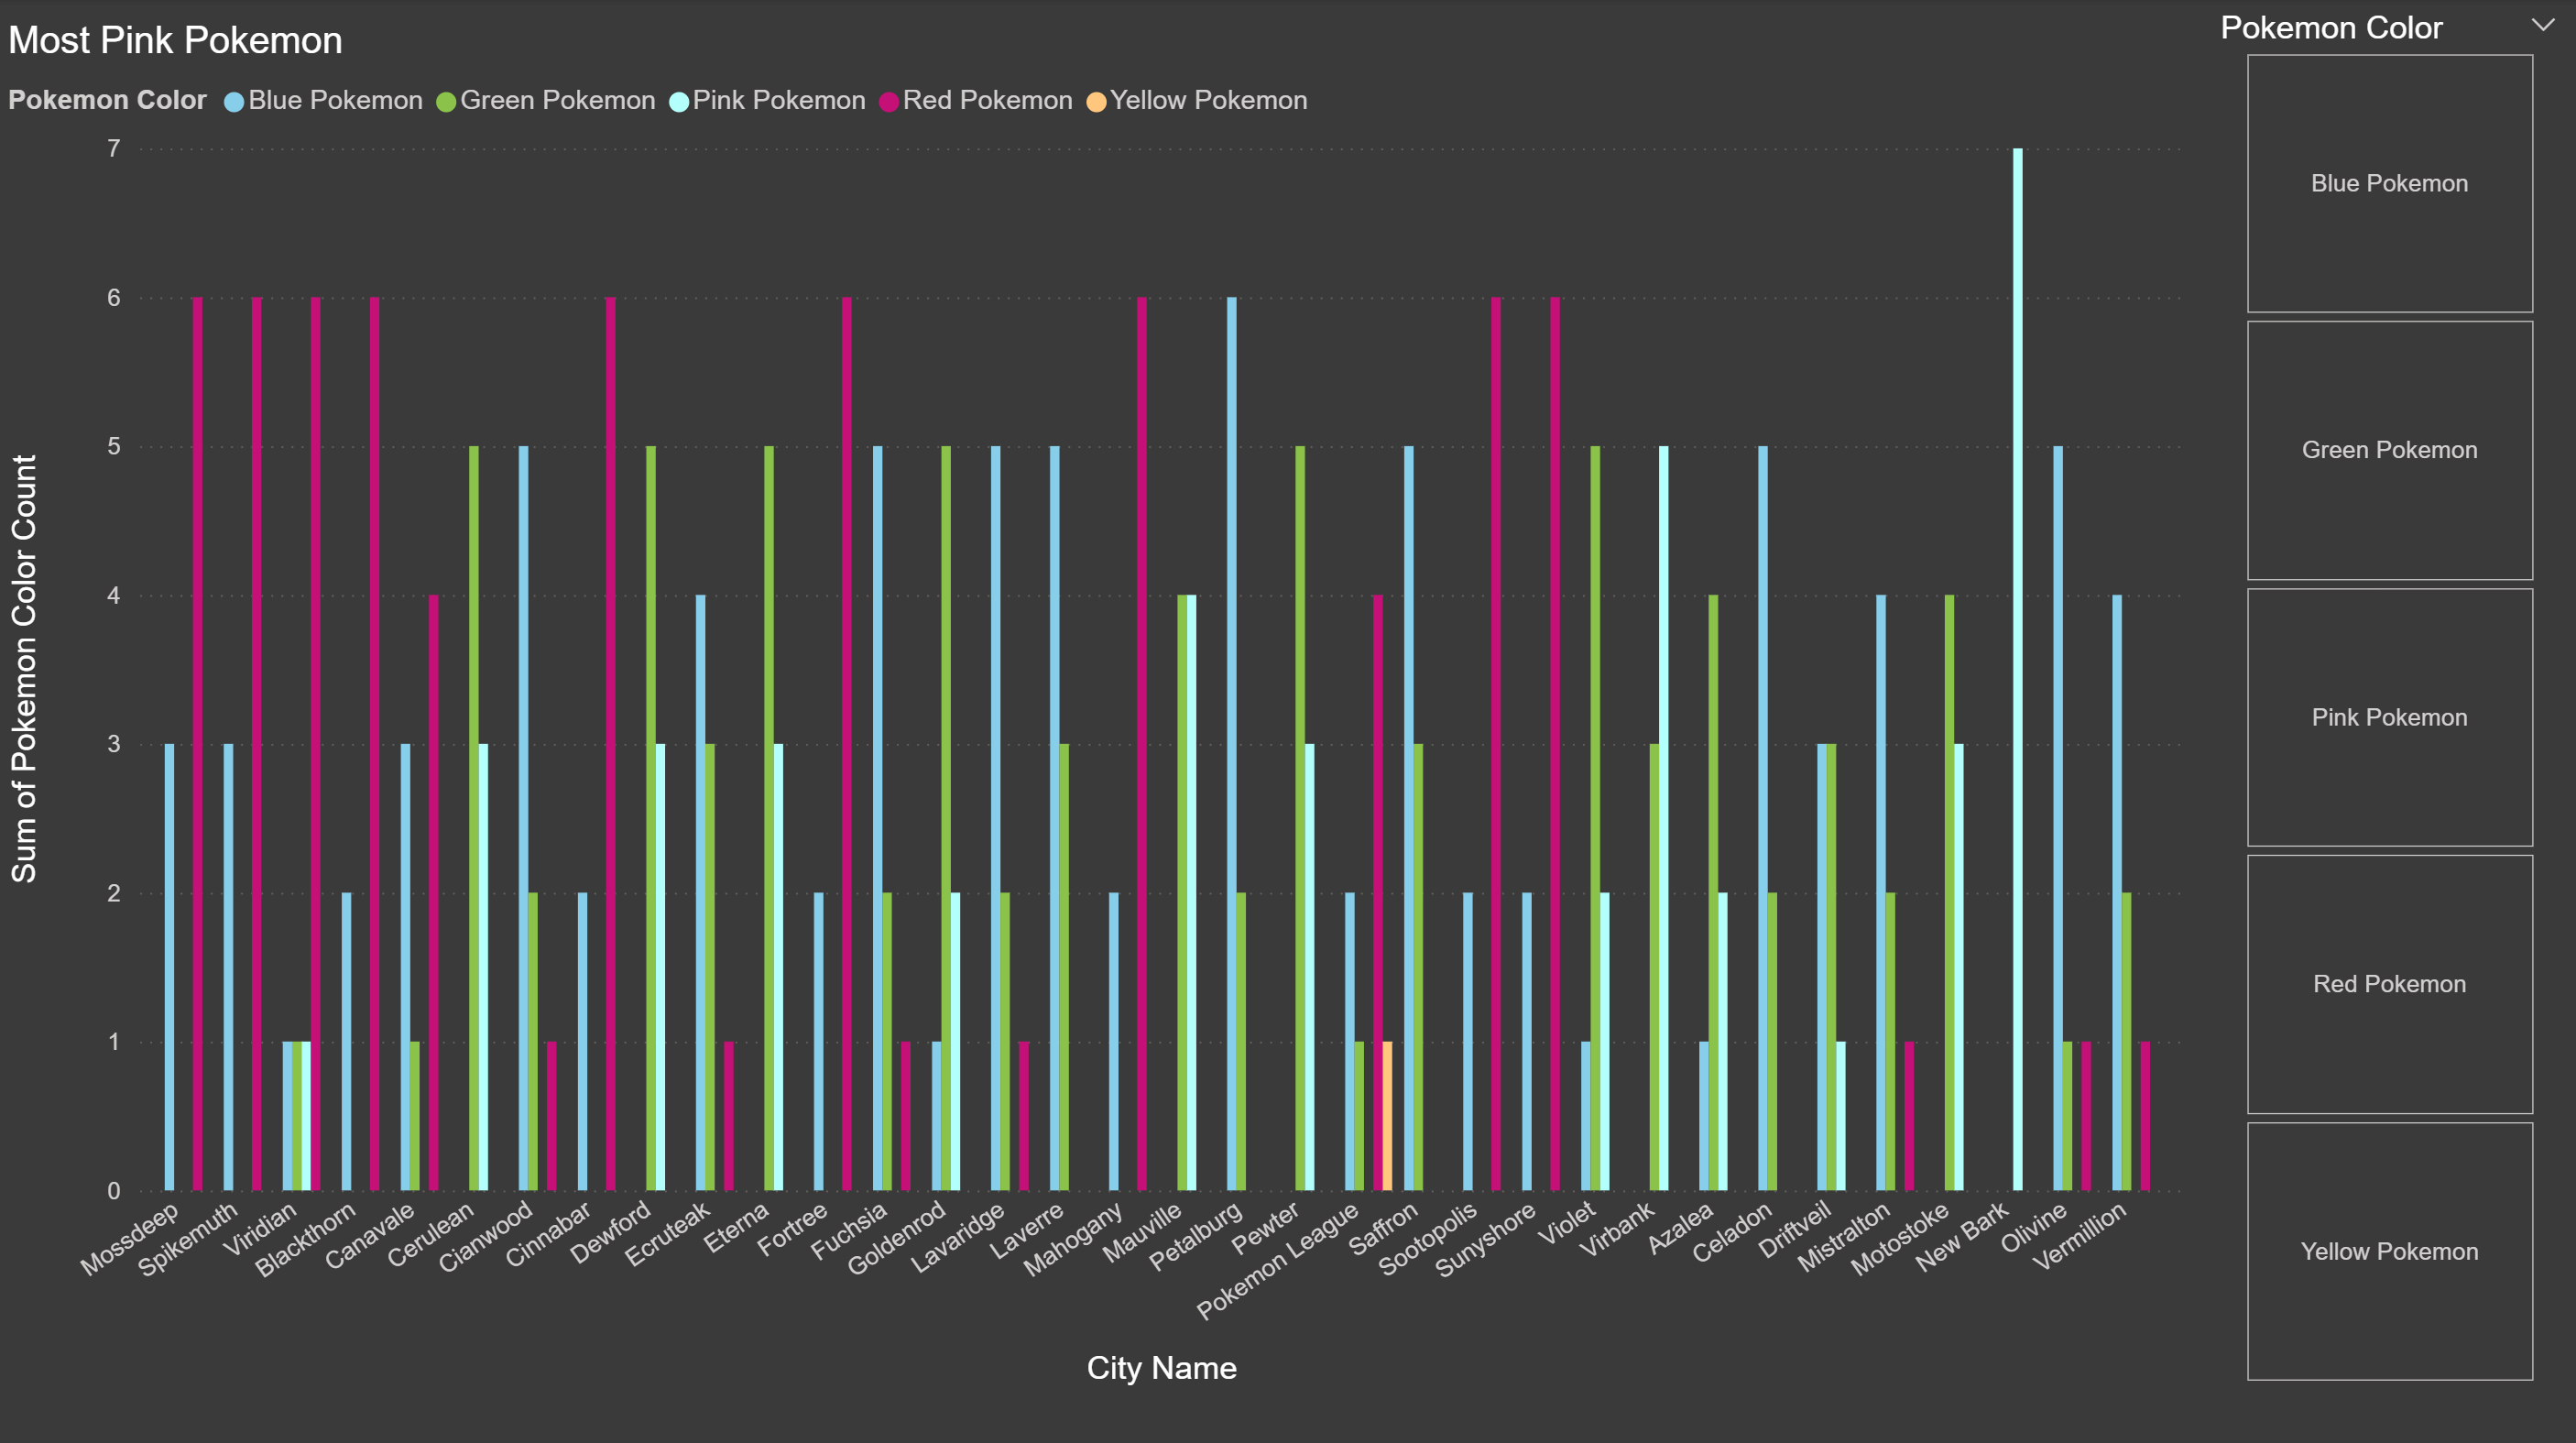

The dashboard page shown, as its layout file describes it:
{"tool":"powerbi","page":{"name":"City Color Catches","canvas":[1280,720],"ordinal":4},"visuals":[{"type":"slicer","fields":{"Values":["Cities.Pokemon Color"]},"box":[1088.2,0,192.1,691.6],"z":0},{"type":"clusteredColumnChart","title":"Most Pink Pokemon","fields":{"Category":["Cities.City Name"],"Y":["Sum(Cities.Pokemon Color Count)"],"Series":["Cities.Pokemon Color"]},"box":[0,9.4,1087.8,682.5],"z":2000}]}

Visuals, with their boxes in screenshot pixels (x1, y1, x2, y2), scaled from the page's 1280x720 canvas onto the 2576x1443 screenshot:
slicer - Cities.Pokemon Color: <region>2190, 0, 2575, 1386</region>
"Most Pink Pokemon" clusteredColumnChart: <region>0, 19, 2189, 1387</region>
